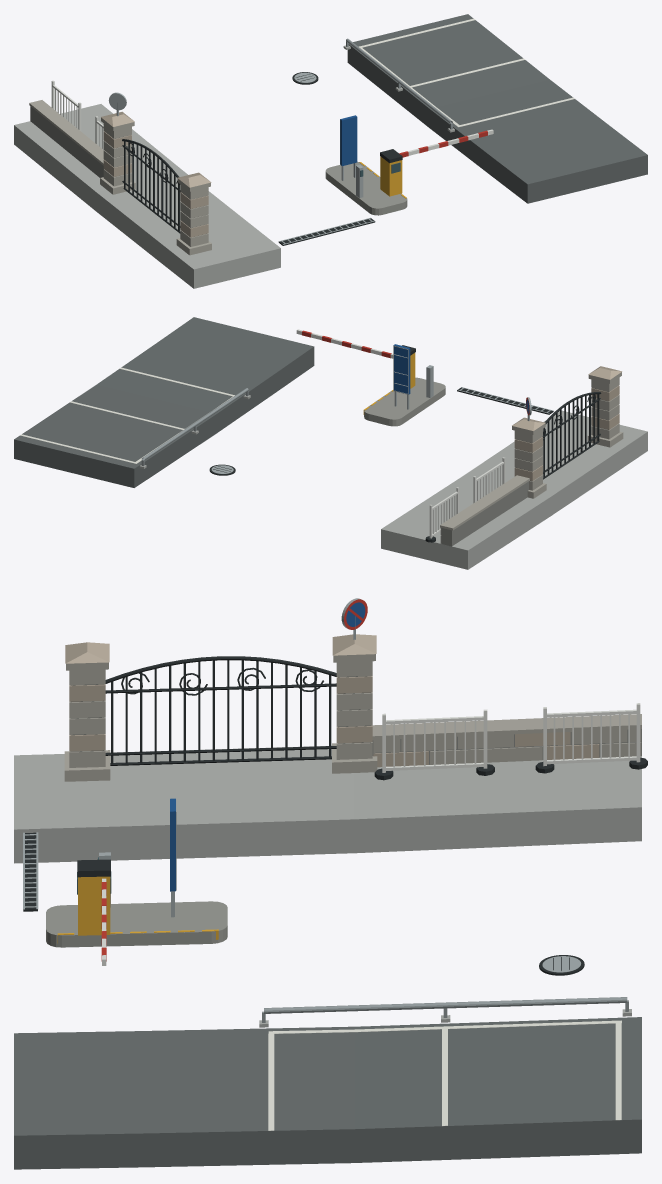
Rendered from south-side-gate.glb.
3 views of the same model, one above another, from view 1: azimuth 30°, elevation 25°; view 2: azimuth 150°, elevation 25°; view 3: azimuth 270°, elevation 25° (orthographic). The views are drawn at different scales.
Visible parts, largest first — view 1: landmark-south-side-gate; view 2: landmark-south-side-gate; view 3: landmark-south-side-gate.
Boxes of the visible parts, <box> form: landmark-south-side-gate: <box>14,14,647,288</box>; landmark-south-side-gate: <box>14,317,647,569</box>; landmark-south-side-gate: <box>14,598,647,1169</box>.
Bounding box in the file's own units: 13.7 × 3.43 × 9.49.
